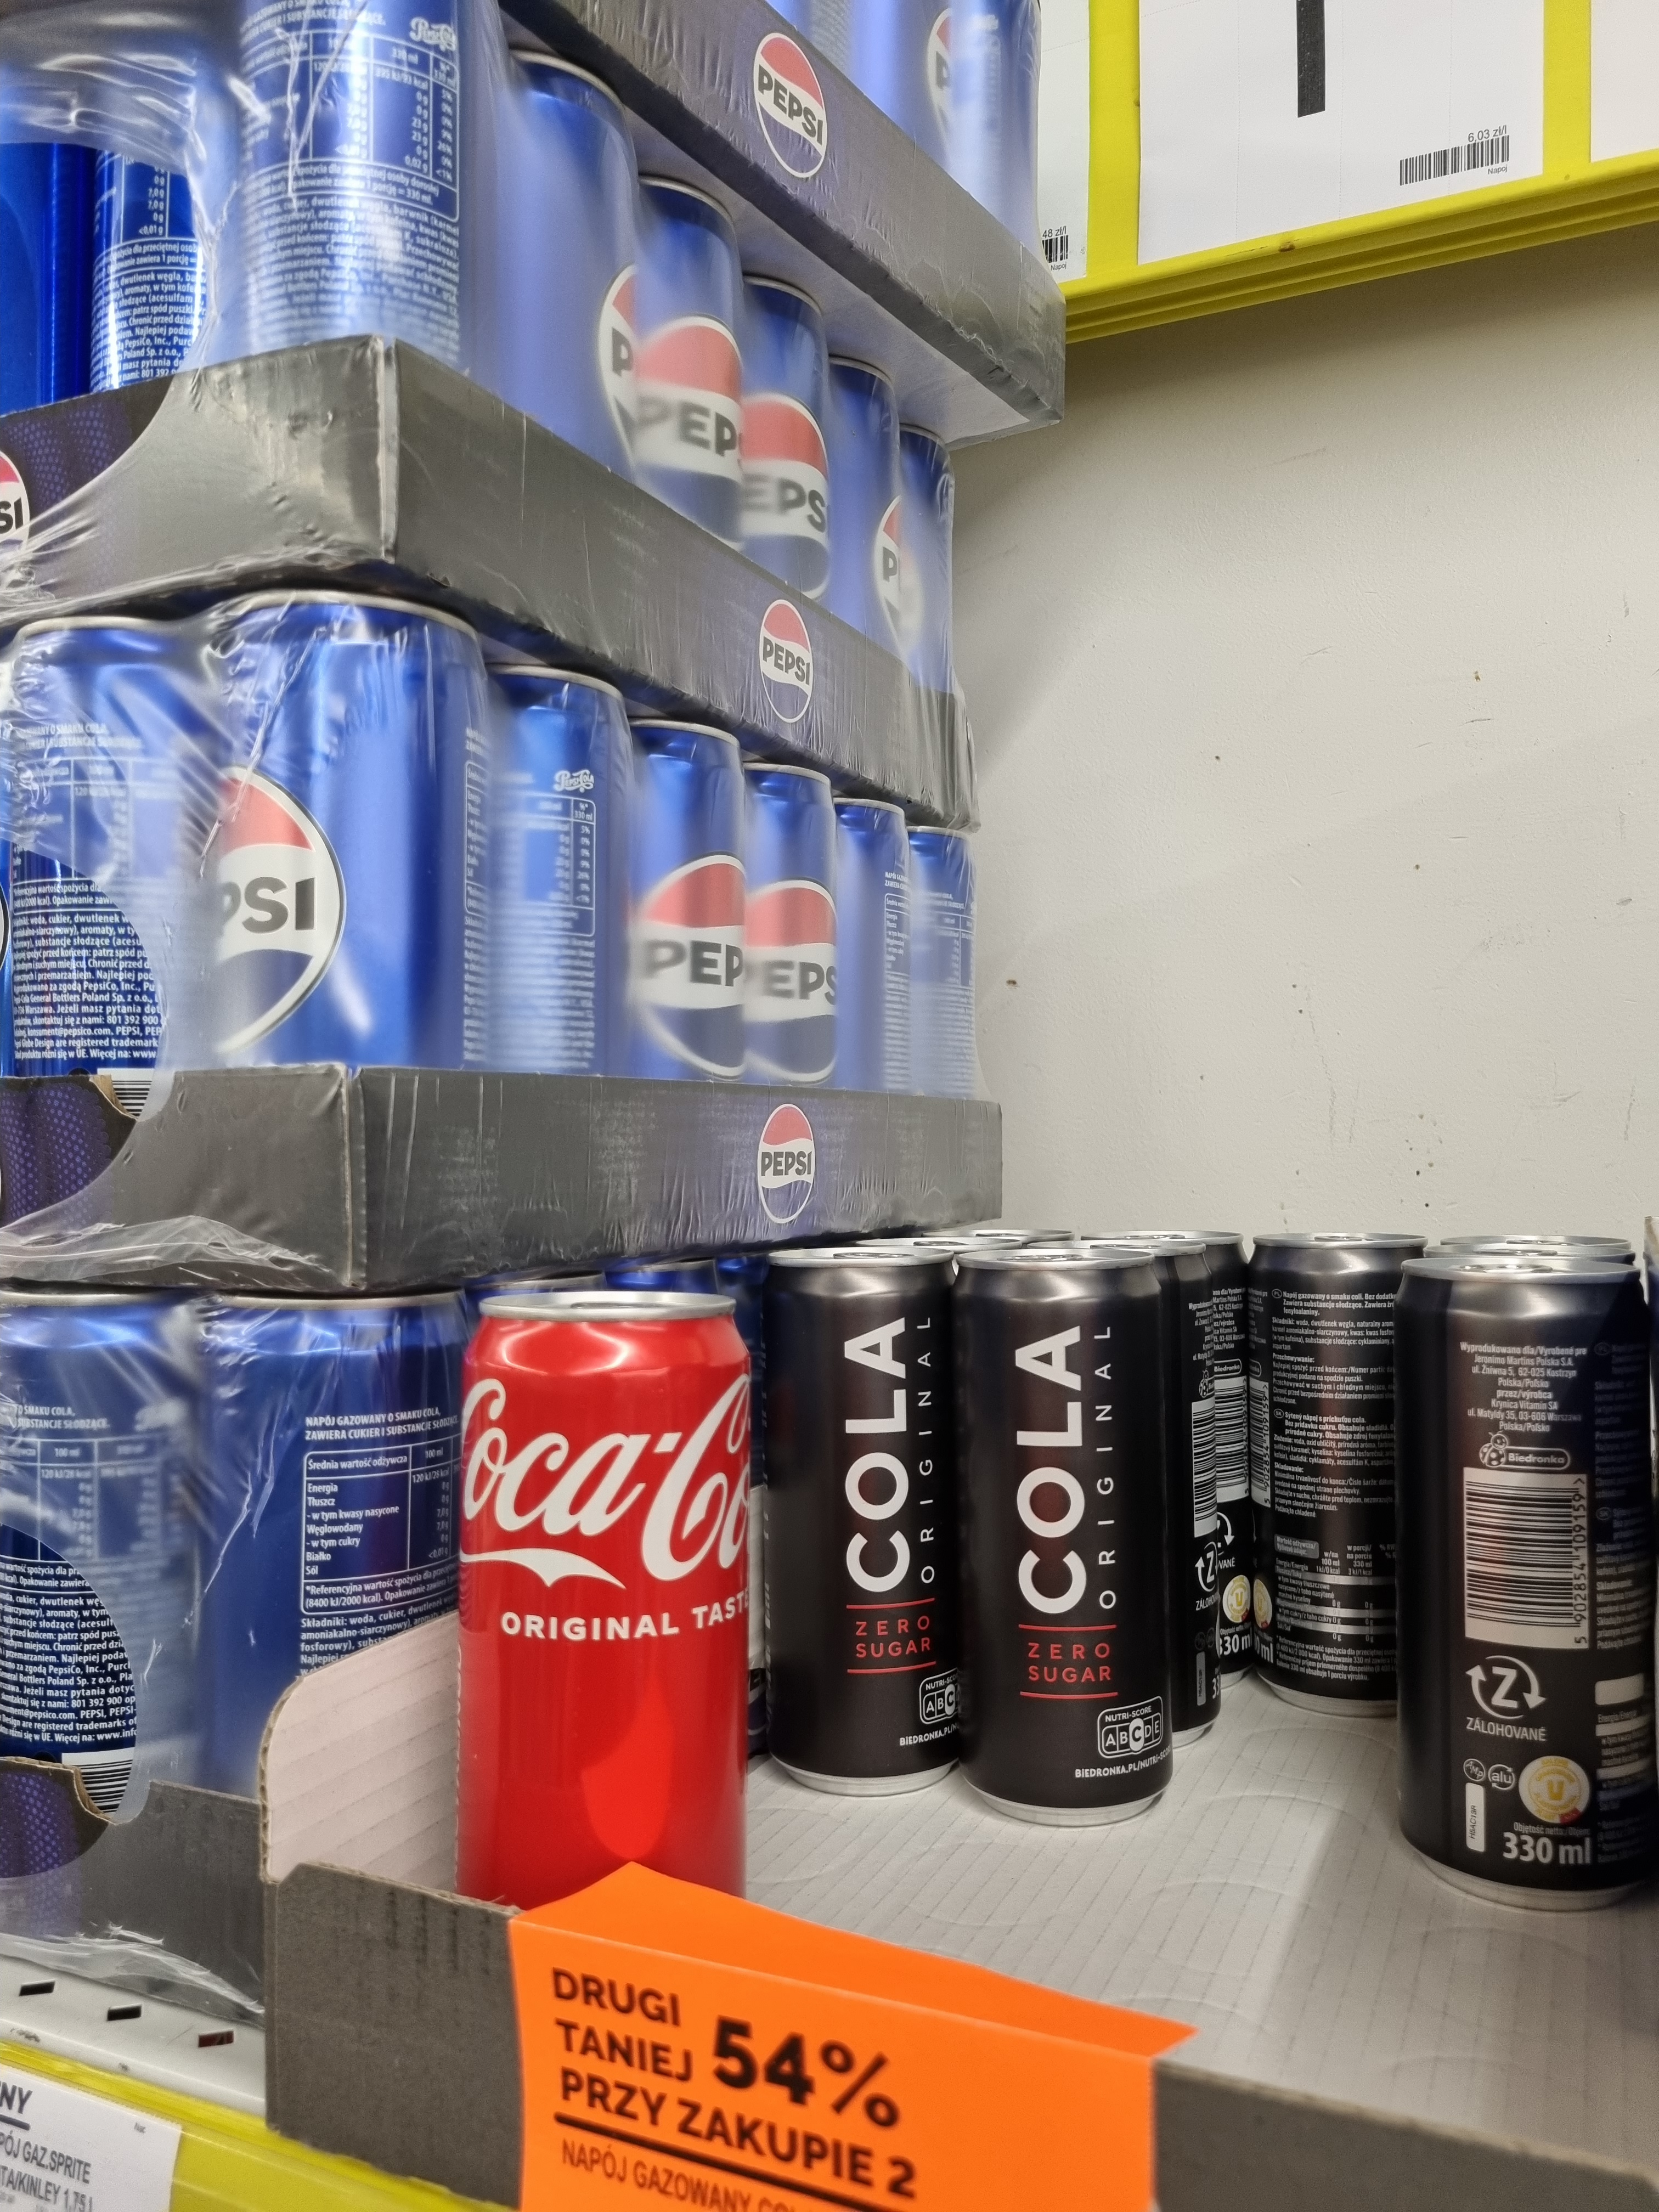Coca Cola: (460, 1296, 737, 1912)
